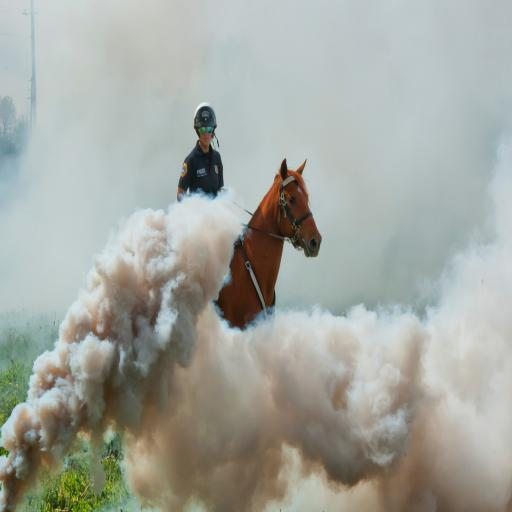horse: (216, 152, 324, 330)
